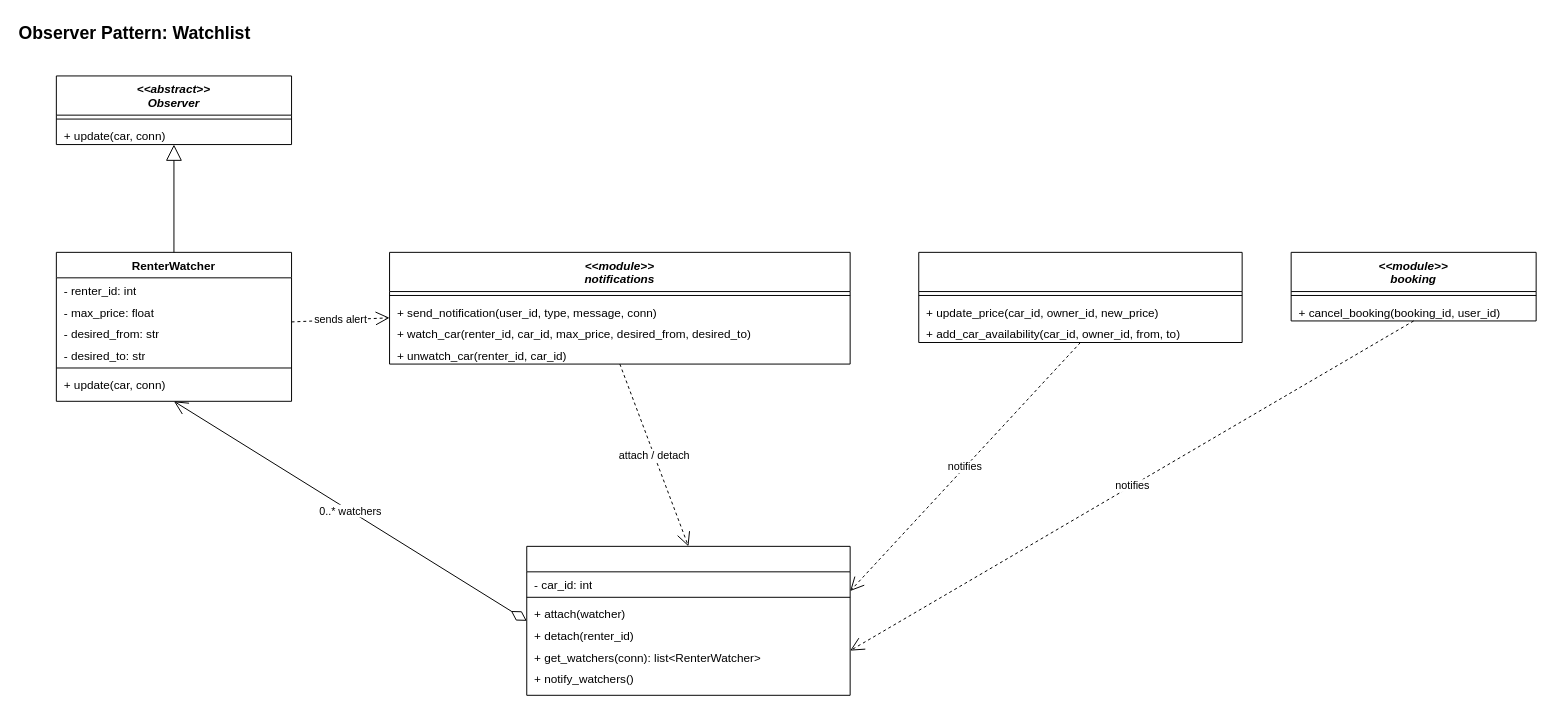
The diagram is 1553 pixels wide and 712 high, and some of its shapes have lost their labels. Here are the shapes that lost their labels. From the top down, the box of each, then its label:
(918, 251, 1242, 343): <<module>> car
(526, 545, 850, 695): CarSubject
